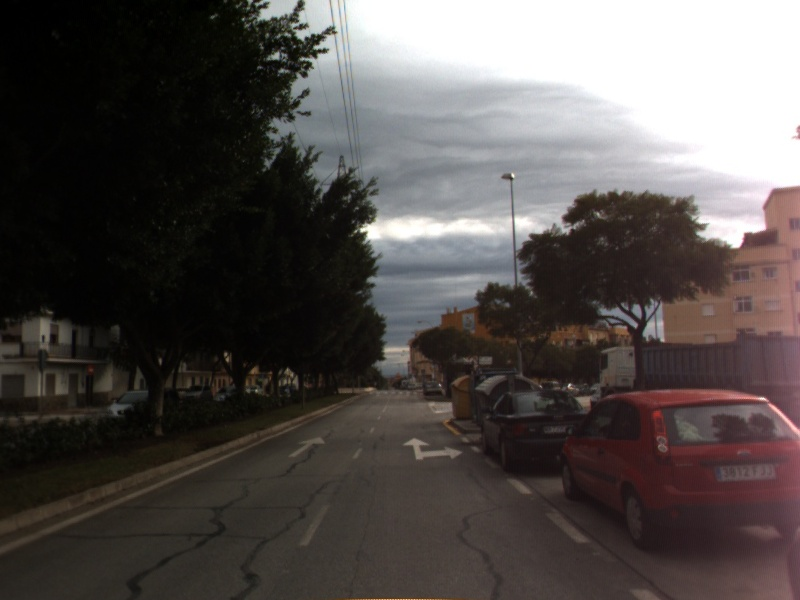STRAIGHT: (286, 434, 327, 459)
STRAIGHT_RIGHT: (400, 436, 465, 462)
